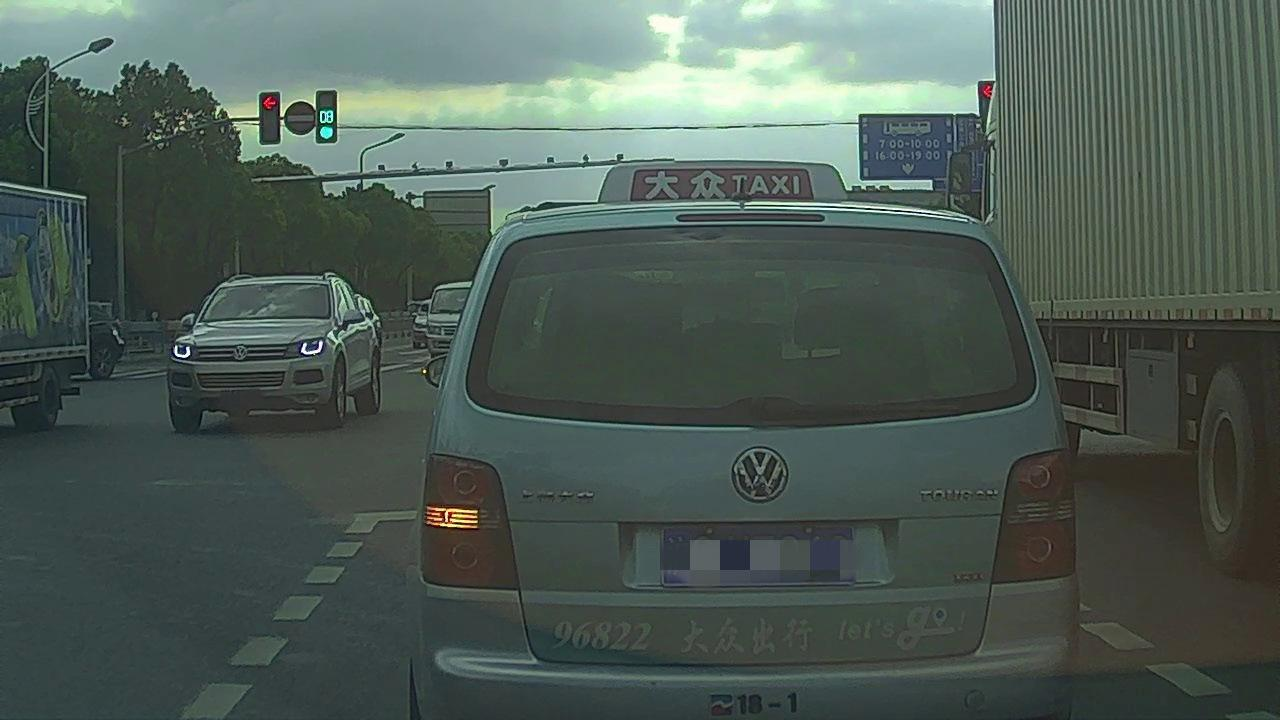traffic_light: (316, 90, 338, 141), (260, 93, 281, 144)
